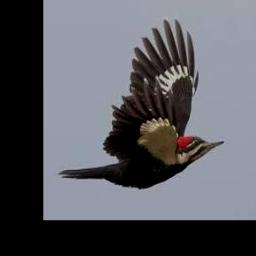Woodpecker: (58, 19, 225, 187)
